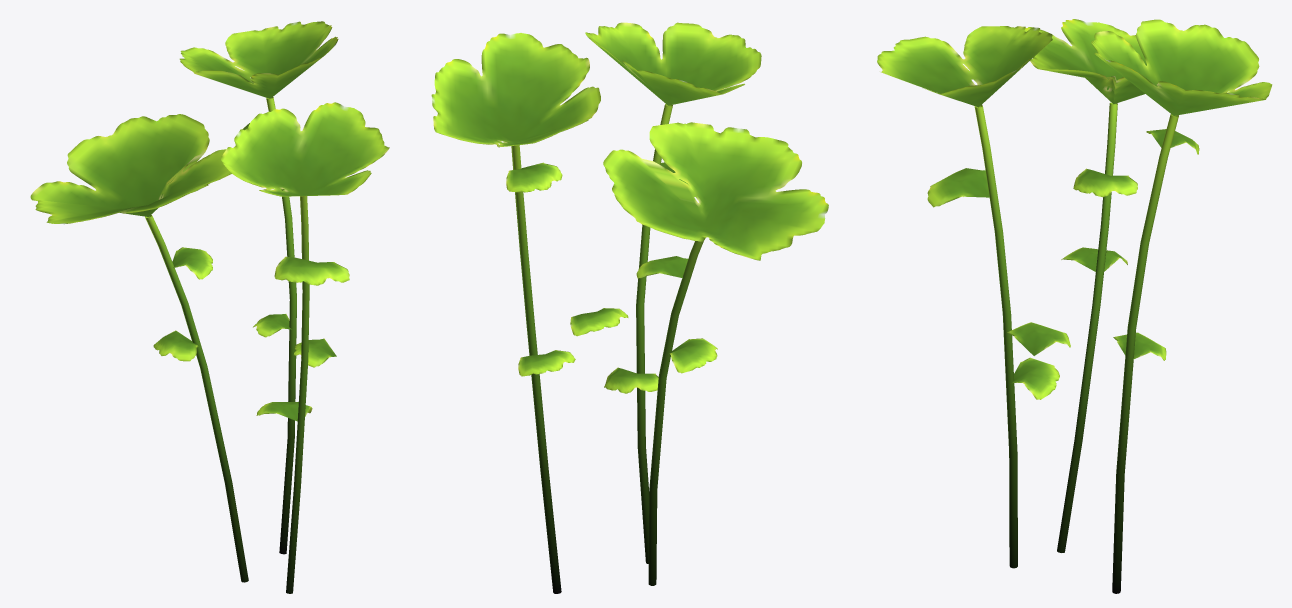
File: clover.glb
3 renders of one model, left to right at view 1: azimuth 30°, elevation 25°; view 2: azimuth 150°, elevation 25°; view 3: azimuth 270°, elevation 25°, orthographic. The views are drawn at different scales.
Parts seen in each view (by area): view 1: Clover_1; view 2: Clover_1; view 3: Clover_1.
Boxes of the visible parts, bbox=[...] form: Clover_1: bbox=[30, 21, 389, 593]; Clover_1: bbox=[431, 22, 828, 593]; Clover_1: bbox=[877, 19, 1272, 593].
Bounding box in the file's own units: 0.7963 × 1.14 × 0.7639.
1 material, 1 textured.
